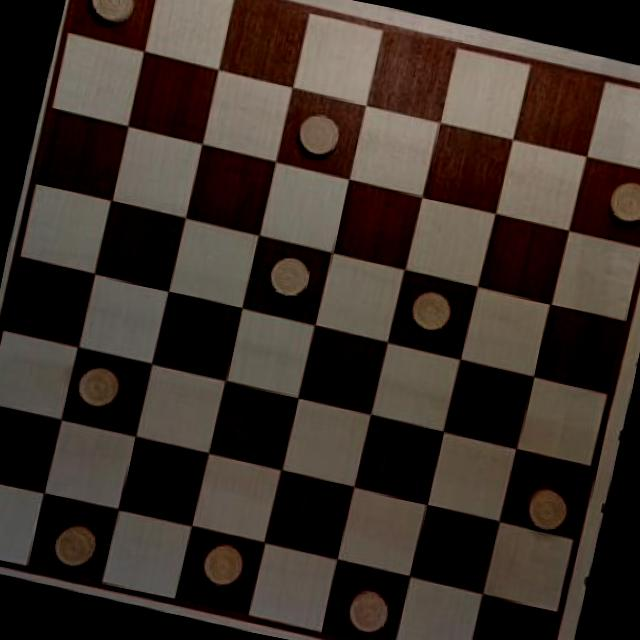BOARD: (0, 0, 640, 640)
white: (514, 474, 578, 542), (44, 511, 108, 574), (343, 578, 407, 640), (286, 104, 347, 166), (194, 533, 253, 592), (70, 358, 126, 416), (406, 278, 460, 336), (595, 173, 640, 238), (82, 0, 148, 39), (264, 252, 312, 300)
